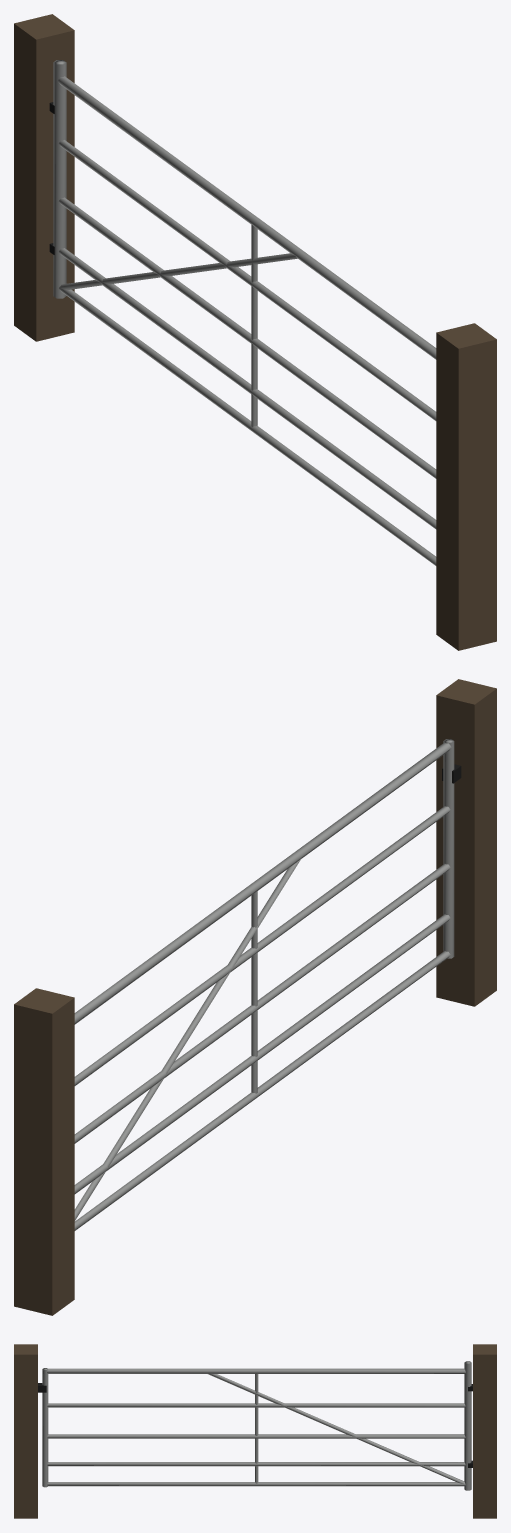
File: SM_Prop_field_gate_1.glb
The picture shows the model from 3 angles, top to bottom: view 1: azimuth 30°, elevation 25°; view 2: azimuth 150°, elevation 25°; view 3: azimuth 270°, elevation 25°; orthographic projection. The views are drawn at different scales.
Visible parts, largest first — view 1: SM_Prop_field_gate_1; view 2: SM_Prop_field_gate_1; view 3: SM_Prop_field_gate_1.
Part boxes in pixels (x1,y1,x2,y2): SM_Prop_field_gate_1: [14, 14, 496, 650]; SM_Prop_field_gate_1: [14, 679, 496, 1315]; SM_Prop_field_gate_1: [14, 1344, 496, 1518].
Size of the model in its own units: 0.2 by 1.5 by 4.
